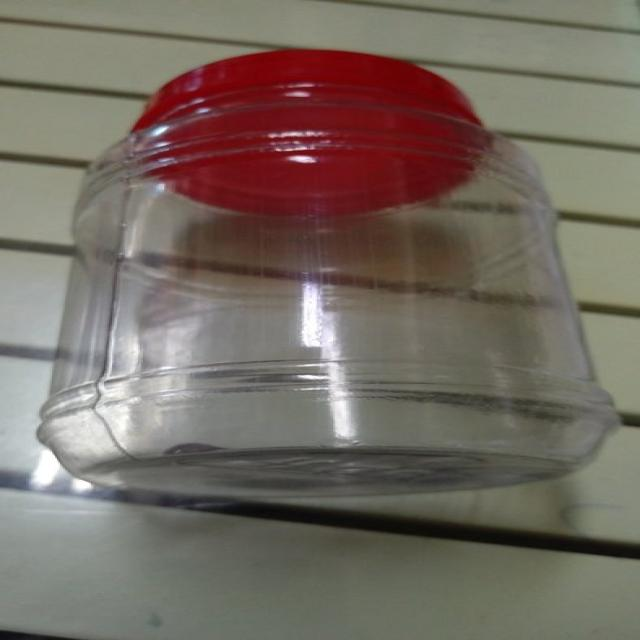plastic: (38, 49, 614, 498)
